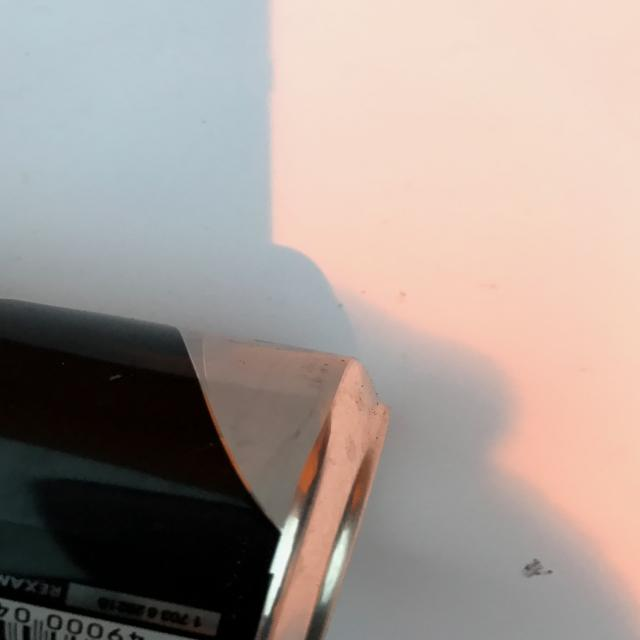metal: (0, 296, 390, 640)
